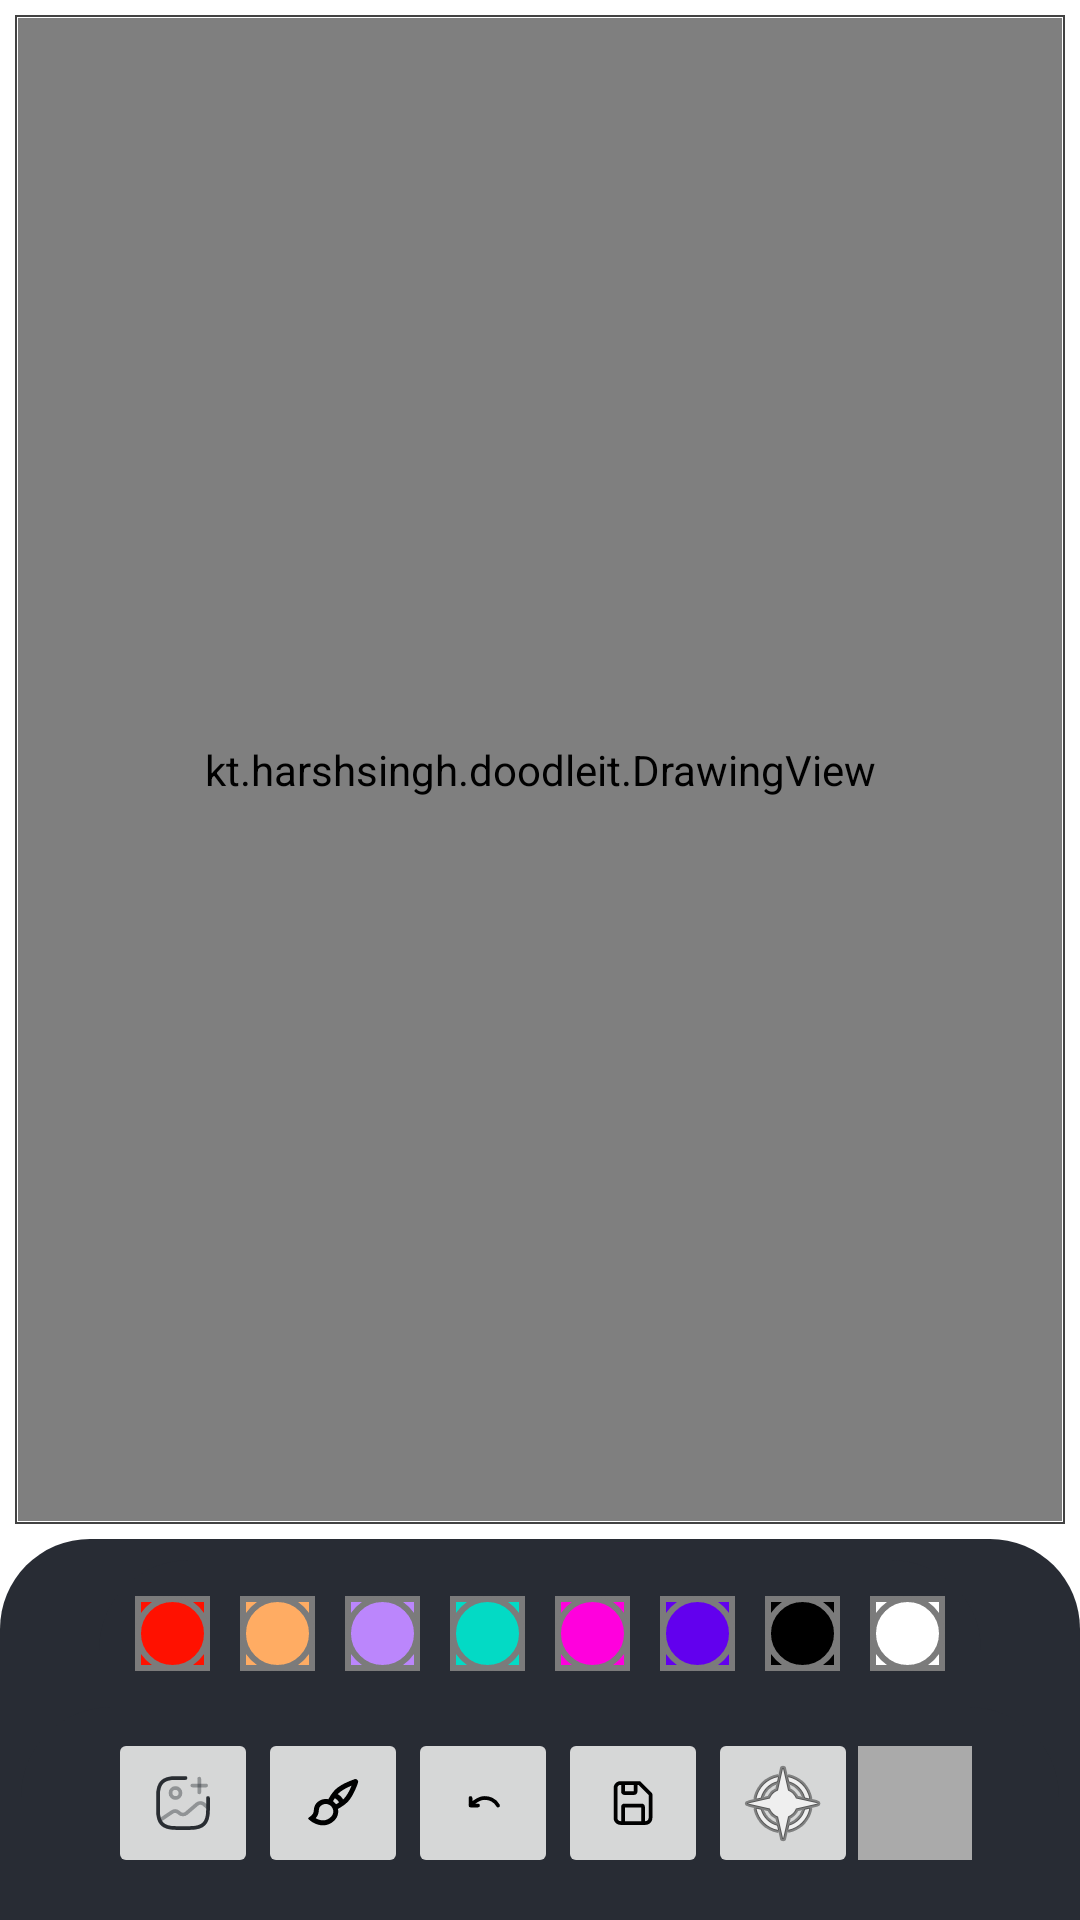

Where icons sit on this 1080px×1920px app screen, as (left=x1, top=y1, right=x2, bottom=y2):
compass: (left=720, top=1746, right=846, bottom=1860)
gallery add: (left=120, top=1746, right=246, bottom=1860)
paintbrush: (left=270, top=1746, right=396, bottom=1860)
Red Color: (left=135, top=1596, right=210, bottom=1671)
save: (left=570, top=1746, right=696, bottom=1860)
undo: (left=420, top=1746, right=546, bottom=1860)
